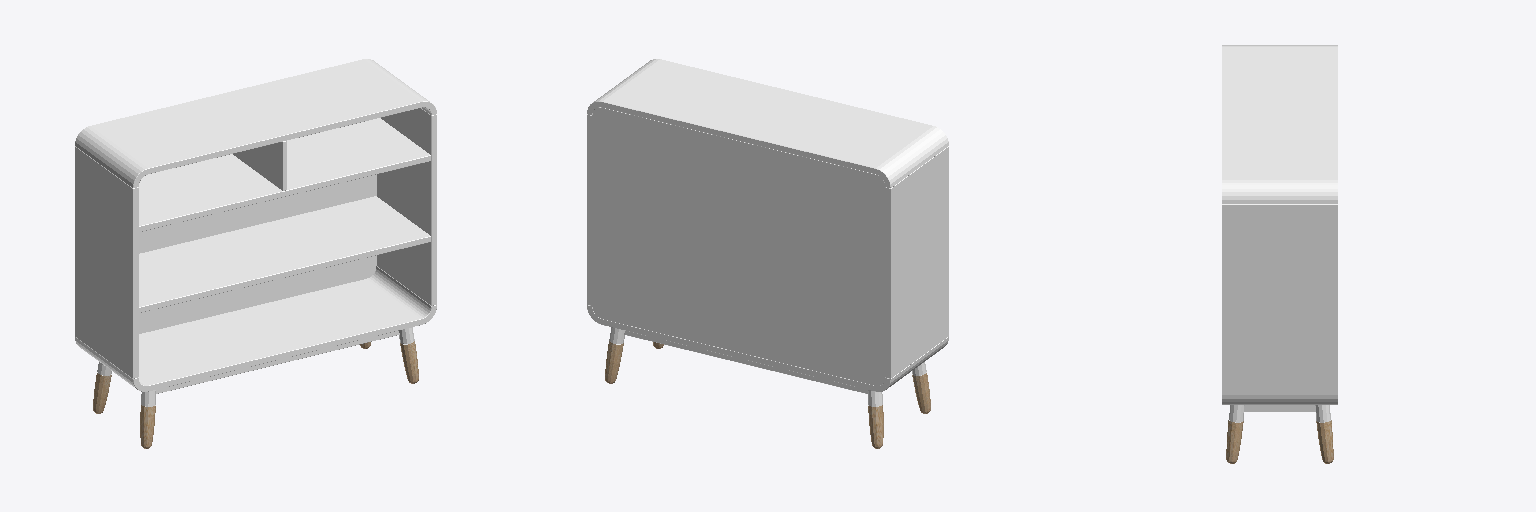
3 views of the same model, side by side, from view 1: azimuth 30°, elevation 25°; view 2: azimuth 150°, elevation 25°; view 3: azimuth 270°, elevation 25° (orthographic).
Visible parts, largest first — view 1: material_0_0, material_1_0; view 2: material_0_0, material_1_0; view 3: material_0_0, material_1_0.
Part boxes in pixels (x1,y1,x2,y2): material_0_0: (75,59,436,406); material_1_0: (93,341,418,448); material_0_0: (587,59,948,406); material_1_0: (605,341,930,448); material_0_0: (1222,45,1337,422); material_1_0: (1226,420,1333,463).
Bounding box in the file's own units: 1.44 × 1.29 × 0.4793.
Materials: 2 (1 with a texture image).